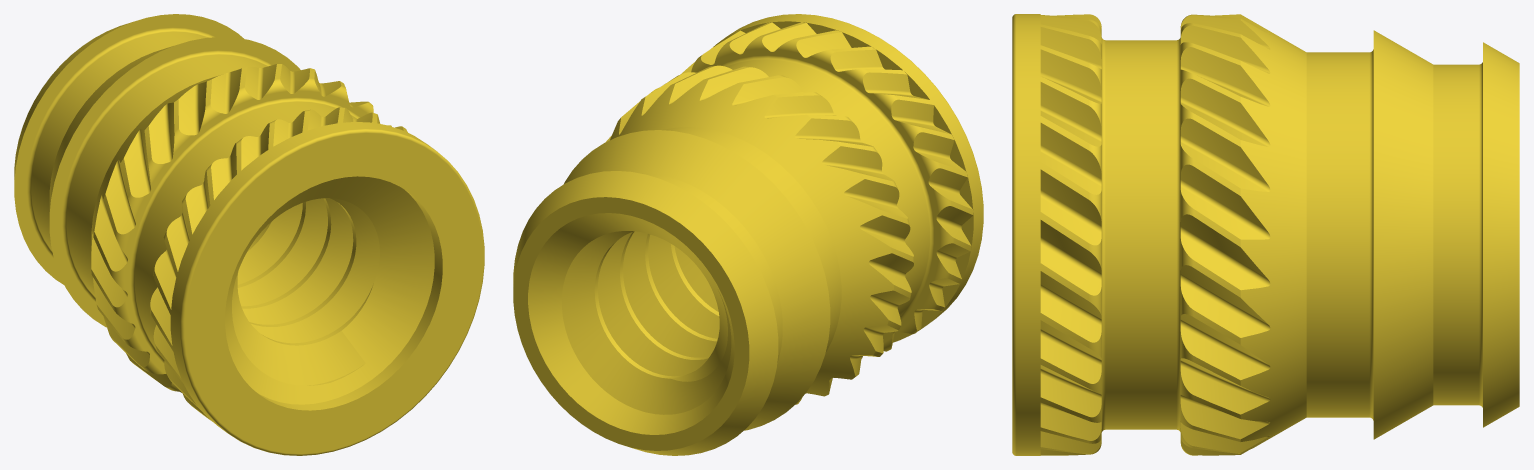
The model's file is _93365A132_Brass_Tapered_Heat_Set_Inserts_for_Plastic.gltf.
3 renders of one model, left to right at view 1: azimuth 30°, elevation 25°; view 2: azimuth 150°, elevation 25°; view 3: azimuth 270°, elevation 25°, orthographic. The views are drawn at different scales.
Parts seen in each view (by area): view 1: mesh5101, mesh5098, mesh5099, mesh5091, mesh5242, mesh5089, mesh5087, mesh5085, mesh5103, mesh5102, mesh5240, mesh5100 (+21 smaller); view 2: mesh5096, mesh5088, mesh5104, mesh5092, mesh5094, mesh5093, mesh5242, mesh5091, mesh5103, mesh5376, mesh5244, mesh5097 (+18 smaller); view 3: mesh5242, mesh5091, mesh5088, mesh5104, mesh5087, mesh5092, mesh5103, mesh5102, mesh5243, mesh5241, mesh5090, mesh5136 (+42 smaller).
Boxes of the visible parts, bbox=[...] form: mesh5101: bbox=[185, 133, 482, 453]; mesh5098: bbox=[232, 198, 379, 385]; mesh5099: bbox=[225, 176, 434, 404]; mesh5091: bbox=[66, 54, 267, 296]; mesh5242: bbox=[134, 101, 356, 352]; mesh5089: bbox=[49, 37, 300, 327]; mesh5087: bbox=[31, 31, 207, 250]; mesh5085: bbox=[14, 14, 243, 284]; mesh5103: bbox=[170, 122, 434, 432]; mesh5102: bbox=[180, 129, 484, 455]; mesh5240: bbox=[124, 91, 367, 373]; mesh5100: bbox=[257, 190, 442, 410]; mesh5096: bbox=[562, 231, 731, 414]; mesh5088: bbox=[564, 130, 830, 430]; mesh5104: bbox=[610, 79, 893, 404]; mesh5092: bbox=[513, 171, 778, 455]; mesh5094: bbox=[528, 213, 734, 434]; mesh5093: bbox=[513, 197, 749, 450]; mesh5242: bbox=[726, 59, 929, 316]; mesh5091: bbox=[662, 127, 841, 352]; mesh5103: bbox=[720, 14, 983, 324]; mesh5376: bbox=[713, 21, 973, 342]; mesh5244: bbox=[696, 48, 940, 342]; mesh5097: bbox=[594, 231, 719, 378]; mesh5242: bbox=[1105, 40, 1176, 429]; mesh5091: bbox=[1306, 52, 1369, 417]; mesh5088: bbox=[1373, 30, 1433, 439]; mesh5104: bbox=[1240, 17, 1306, 453]; mesh5087: bbox=[1433, 64, 1478, 405]; mesh5092: bbox=[1483, 42, 1519, 427]; mesh5103: bbox=[1016, 14, 1040, 455]; mesh5102: bbox=[1012, 14, 1016, 455]; mesh5243: bbox=[1101, 37, 1105, 432]; mesh5241: bbox=[1176, 38, 1180, 431]; mesh5090: bbox=[1369, 49, 1373, 420]; mesh5136: bbox=[1180, 78, 1267, 139].
Size of the model in its own units: 0.00552 by 0.00553 by 0.00635.
